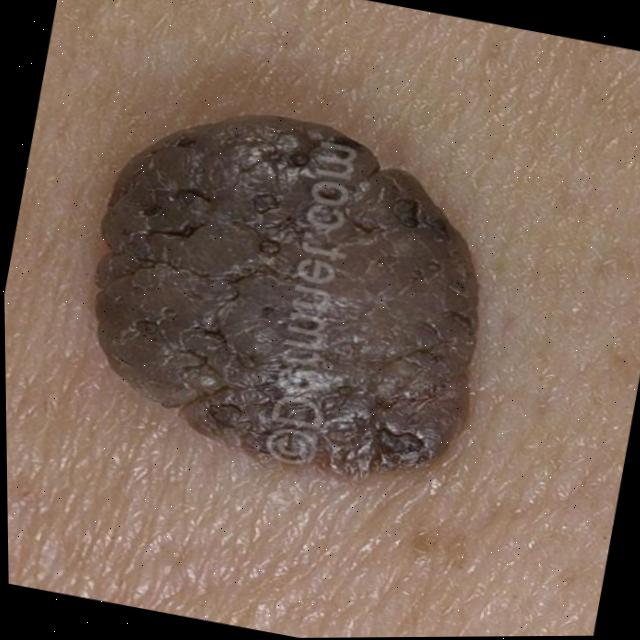Eczema: (35, 75, 522, 545)
